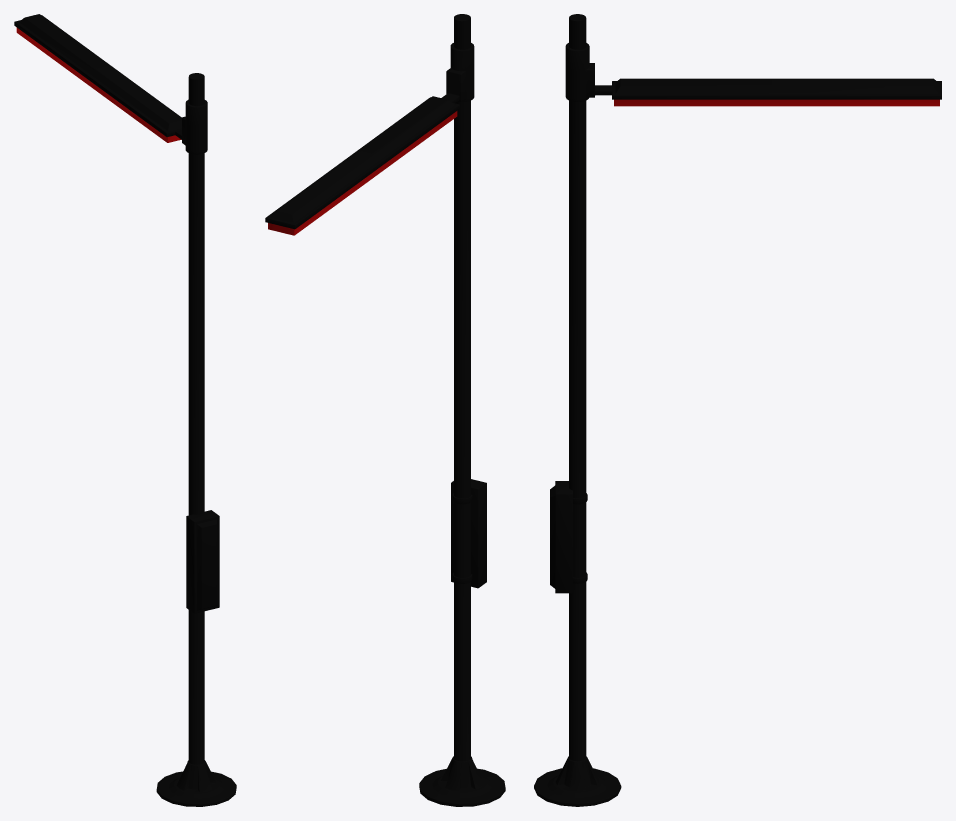
File: SM_Streetlamp.fbx
3 views of the same model, side by side, from view 1: azimuth 30°, elevation 25°; view 2: azimuth 150°, elevation 25°; view 3: azimuth 270°, elevation 25° (orthographic). The views are drawn at different scales.
Visible parts, largest first — view 1: Lamp; view 2: Lamp; view 3: Lamp.
Part boxes in pixels (bbox=[...]): Lamp: bbox=[14, 14, 236, 806]; Lamp: bbox=[265, 14, 505, 806]; Lamp: bbox=[534, 14, 941, 806].
Bounding box in the file's own units: 132 × 1290 × 618.
